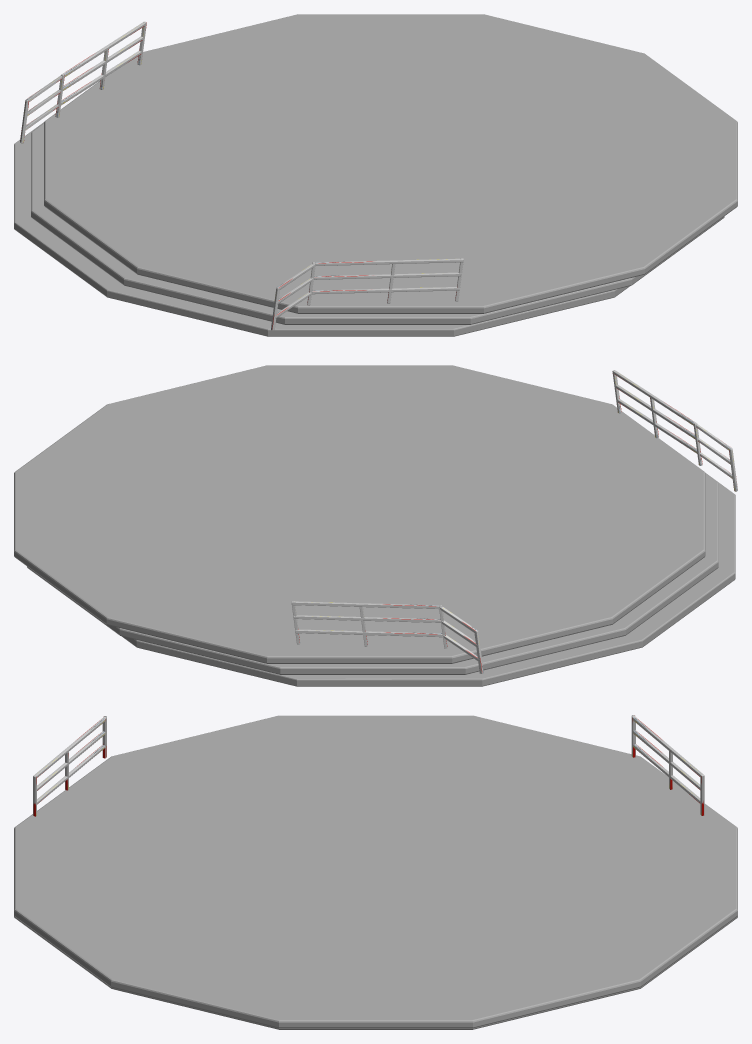
The model's file is fixedPlatform.fbx.
3 renders of one model, top to bottom at view 1: azimuth 30°, elevation 25°; view 2: azimuth 150°, elevation 25°; view 3: azimuth 270°, elevation 25°, orthographic. The views are drawn at different scales.
Visible parts, largest first — view 1: Platform.000, Platform.001, Platform.002, Fence.002, Fence.001; view 2: Platform.000, Platform.001, Platform.002, Fence.001, Fence.002; view 3: Platform.000, Platform.001, Fence.001, Fence.002.
Boxes of the visible parts, x1,y1,x2,y2 form: Platform.000: [44, 14, 737, 313]; Platform.001: [31, 123, 724, 324]; Platform.002: [14, 122, 629, 336]; Fence.002: [271, 258, 463, 330]; Fence.001: [20, 21, 146, 143]; Platform.000: [14, 365, 705, 663]; Platform.001: [27, 474, 718, 674]; Platform.002: [122, 473, 735, 686]; Fence.001: [291, 601, 483, 673]; Fence.002: [612, 370, 737, 491]; Platform.000: [14, 715, 737, 1028]; Platform.001: [14, 831, 737, 1029]; Fence.001: [631, 715, 704, 815]; Fence.002: [33, 716, 106, 816].
Bounding box in the file's own units: 2152 × 224 × 2049.
